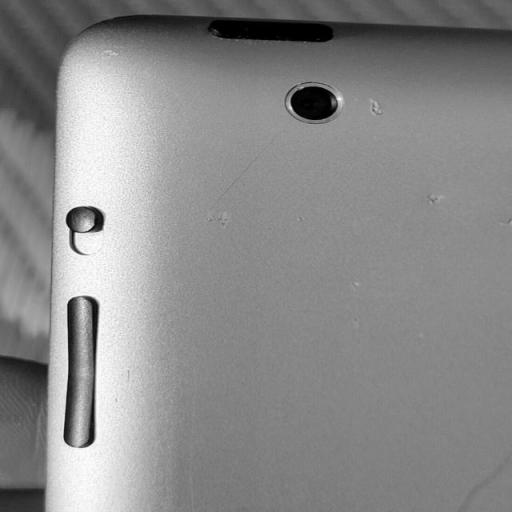phone: (45, 15, 511, 511)
